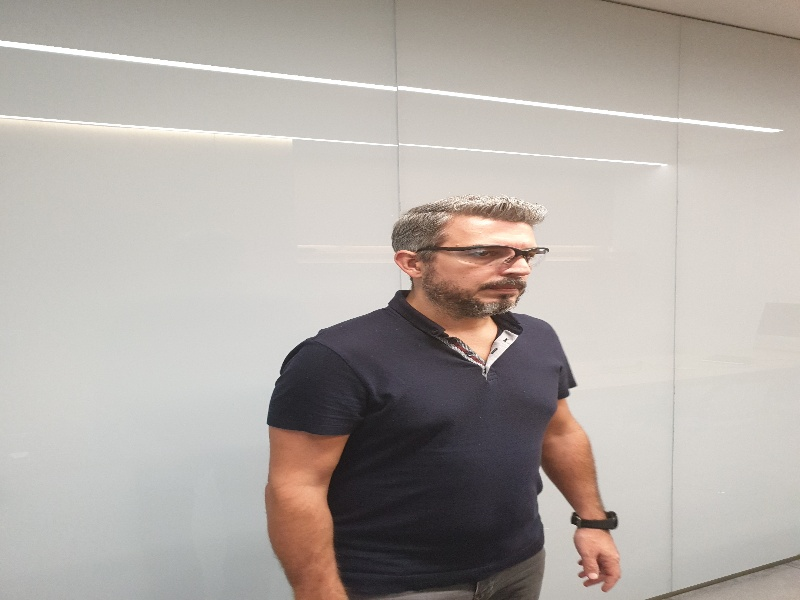Gozluk: (420, 246, 552, 264)
